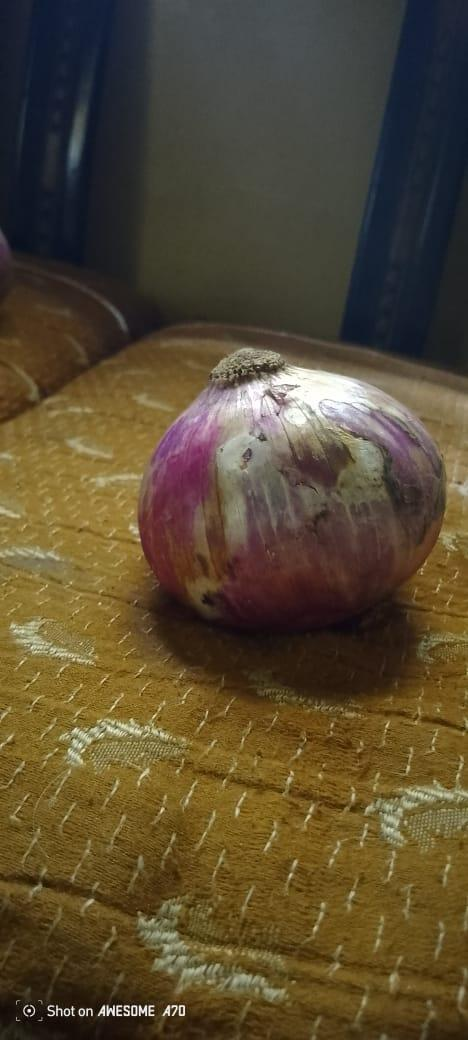non-mango: (147, 344, 453, 616)
